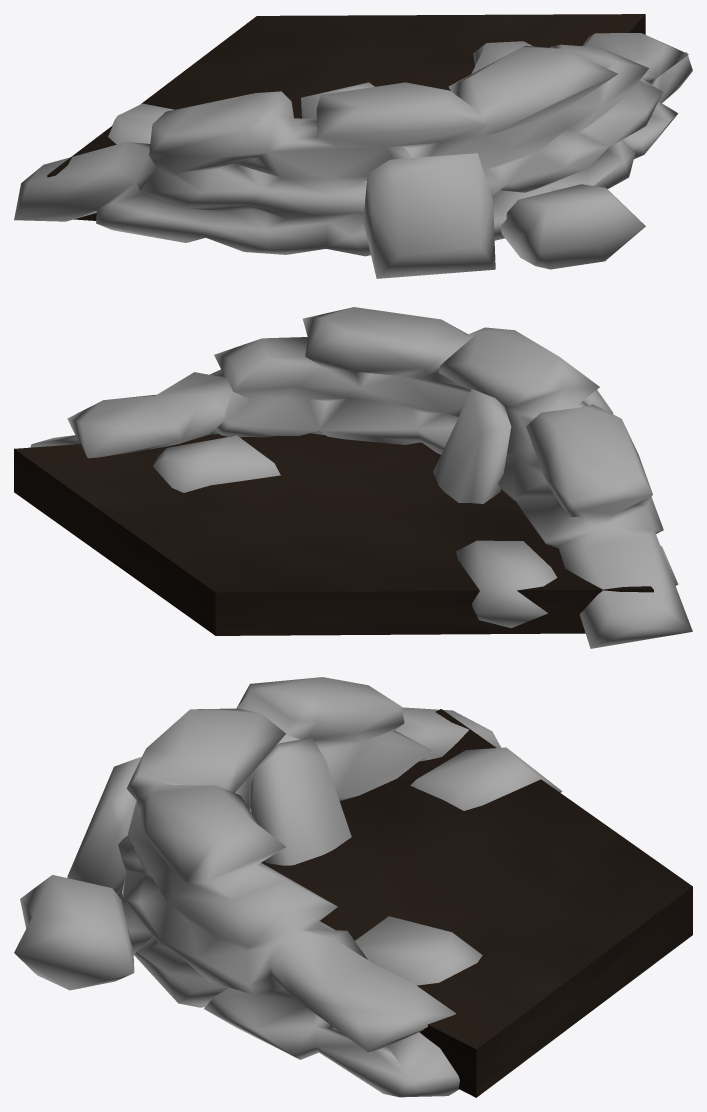
3 views of the same model, one above another, from view 1: azimuth 30°, elevation 25°; view 2: azimuth 150°, elevation 25°; view 3: azimuth 270°, elevation 25° (orthographic). The views are drawn at different scales.
Visible parts, largest first — view 1: cat_Mesh2.001, Cube_Cube.000; view 2: cat_Mesh2.001, Cube_Cube.000; view 3: cat_Mesh2.001, Cube_Cube.000.
Boxes of the visible parts, x1,y1,x2,y2 form: cat_Mesh2.001: (14, 33, 692, 278); Cube_Cube.000: (47, 14, 645, 220); cat_Mesh2.001: (30, 307, 692, 648); Cube_Cube.000: (14, 433, 653, 635); cat_Mesh2.001: (14, 677, 562, 1097); Cube_Cube.000: (261, 709, 692, 1097).
Size of the model in its own units: 5.62 by 1.3 by 4.38.
